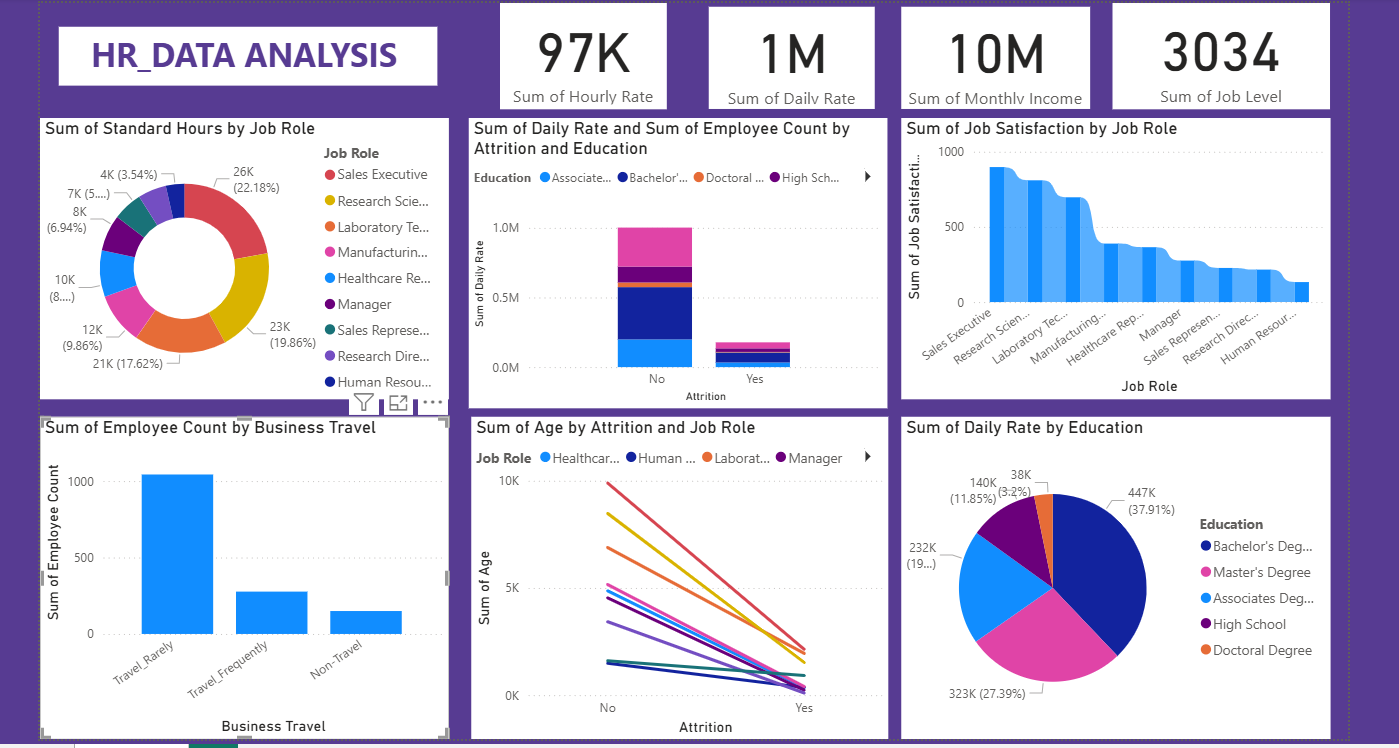

This screenshot's page, from the dashboard's own definition file:
{"tool":"powerbi","page":{"name":"Page 1","canvas":[1280,720],"ordinal":0},"visuals":[{"type":"columnChart","fields":{"Category":["HR data.Attrition"],"Y":["Sum(HR data.Daily Rate)"],"Series":["HR data.Education"]},"box":[409,103.8,409,283.5],"z":0},{"type":"clusteredColumnChart","fields":{"Y":["Sum(HR data.Employee Count)"],"Category":["HR data.Business Travel"]},"box":[16.9,404.2,392.1,316.1],"z":1},{"type":"pieChart","fields":{"Category":["HR data.Education"],"Y":["Sum(HR data.Daily Rate)"]},"box":[842.1,404.2,419.8,316.1],"z":2},{"type":"lineChart","fields":{"Category":["HR data.Attrition"],"Y":["Sum(HR data.Age)"],"Series":["HR data.Job Role"]},"box":[422.3,404.2,407.8,316.1],"z":3},{"type":"donutChart","fields":{"Y":["Sum(HR data.Standard Hours)"],"Category":["HR data.Job Role"]},"box":[16.9,103.8,374,283.5],"z":4},{"type":"card","fields":{"Values":["Sum(HR data.Job Level)"]},"box":[1038.7,0,212.3,103.8],"z":5},{"type":"ribbonChart","fields":{"Y":["Sum(HR data.Job Satisfaction)"],"Category":["HR data.Job Role"]},"box":[842.1,112.2,419.8,275.1],"z":6},{"type":"card","fields":{"Values":["Sum(HR data.Monthly Income)"]},"box":[842.1,3.6,184.6,100.1],"z":7}]}

Visuals, with their boxes in screenshot pixels (x1, y1, x2, y2):
columnChart - HR data.Attrition x Sum(HR data.Daily Rate): 458,106,877,396
clusteredColumnChart - Sum(HR data.Employee Count) x HR data.Business Travel: 57,413,458,737
pieChart - HR data.Education x Sum(HR data.Daily Rate): 902,413,1331,737
lineChart - HR data.Attrition x Sum(HR data.Age): 472,413,889,737
donutChart - Sum(HR data.Standard Hours) x HR data.Job Role: 57,106,440,396
card - Sum(HR data.Job Level): 1103,0,1320,106
ribbonChart - Sum(HR data.Job Satisfaction) x HR data.Job Role: 902,115,1331,396
card - Sum(HR data.Monthly Income): 902,4,1090,106
